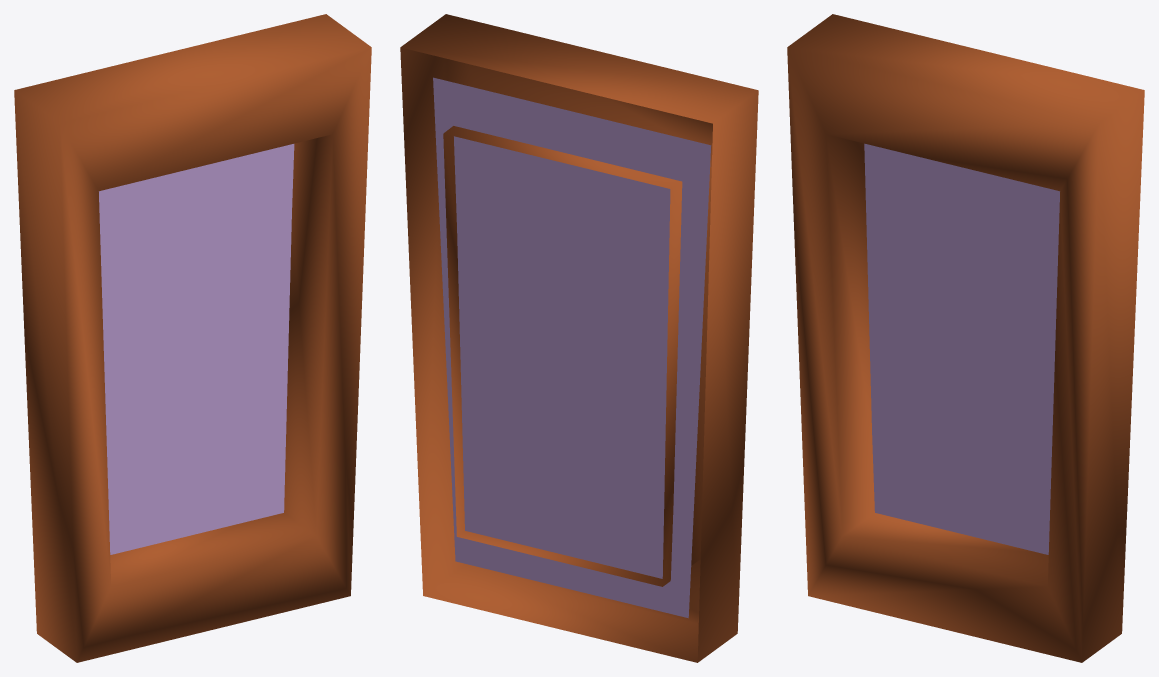
File: props_wall_painting_frame_6.fbx
3 renders of one model, left to right at view 1: azimuth 30°, elevation 25°; view 2: azimuth 150°, elevation 25°; view 3: azimuth 330°, elevation 25°, orthographic.
Parts seen in each view (by area): view 1: Cube.106; view 2: Cube.106; view 3: Cube.106.
Part boxes in pixels (x1,y1,x2,y2): Cube.106: [14, 14, 371, 662]; Cube.106: [400, 14, 758, 662]; Cube.106: [787, 14, 1144, 662].
Size of the model in its own units: 82.33 by 138 by 20.81.
